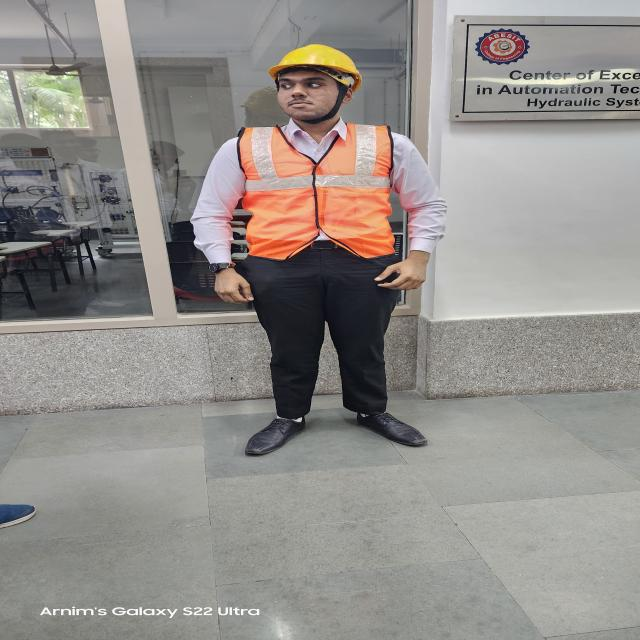safe: (192, 40, 438, 458)
